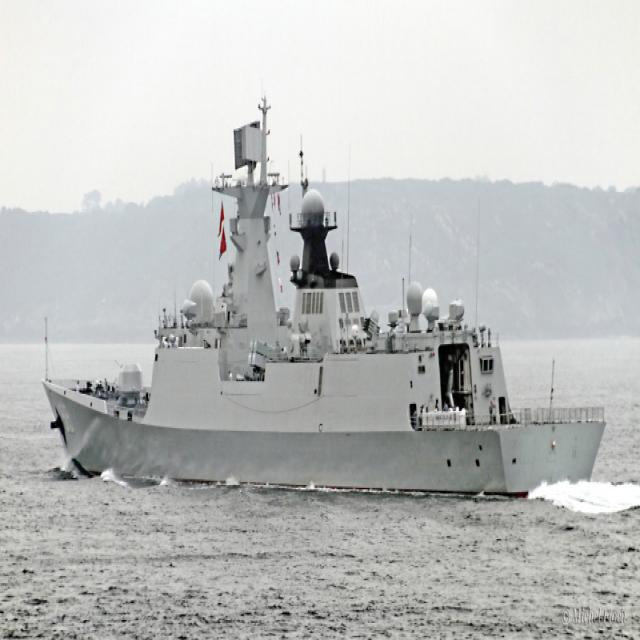Fragata: (39, 89, 608, 503)
